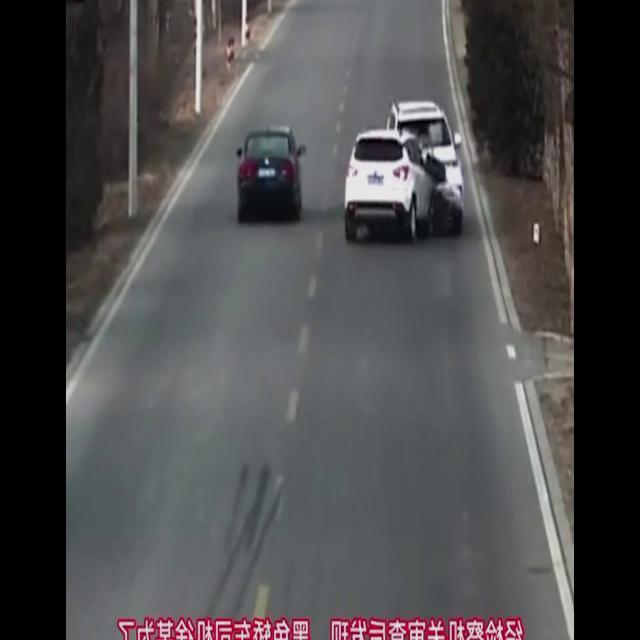accident: (342, 95, 460, 241)
